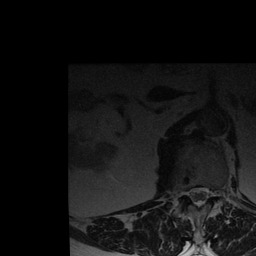CCS_normal: (195, 181, 202, 214)
LFS_normal: (210, 182, 218, 204)
LLS_normal: (203, 181, 210, 209)
RFS_stenosis: (183, 184, 189, 206)
RLS_normal: (189, 182, 195, 208)
